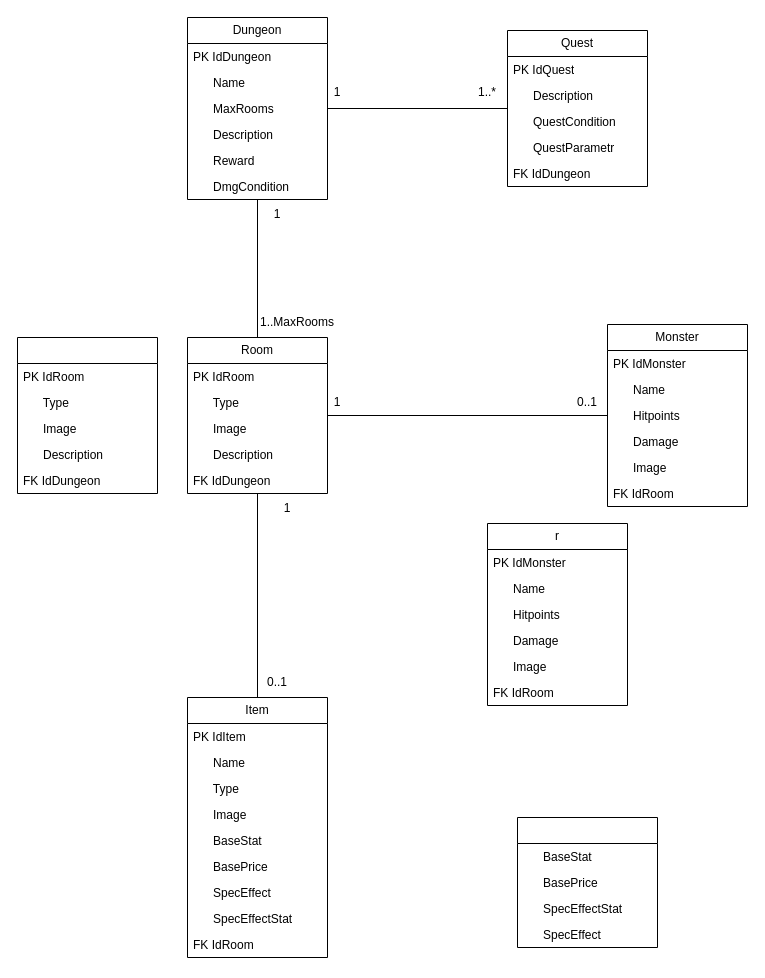
Image size: 765x978. Some labels were removed from this diagram. The box of each missing label's shape, as (x1, y1, x2, y2) in pixels:
Hall: (16, 336, 158, 494)
PlayerItem: (516, 816, 658, 948)
